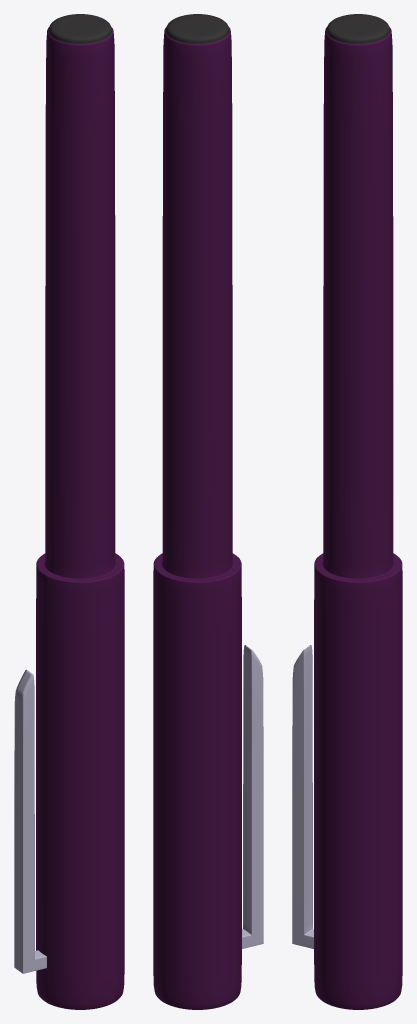
Rendered from Pen.fbx.
3 renders of one model, left to right at view 1: azimuth 30°, elevation 25°; view 2: azimuth 210°, elevation 25°; view 3: azimuth 330°, elevation 25°, orthographic.
Parts seen in each view (by area): view 1: Pen; view 2: Pen; view 3: Pen.
Boxes of the visible parts, x1,y1,x2,y2 form: Pen: (14,14,124,1009); Pen: (153,14,263,1009); Pen: (292,14,402,1009).
Size of the model in its own units: 1626 by 15033 by 1245.
